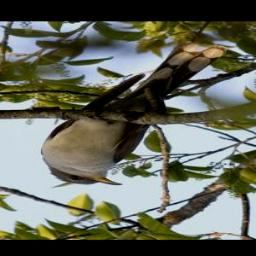Cuckoo: (40, 44, 226, 186)
